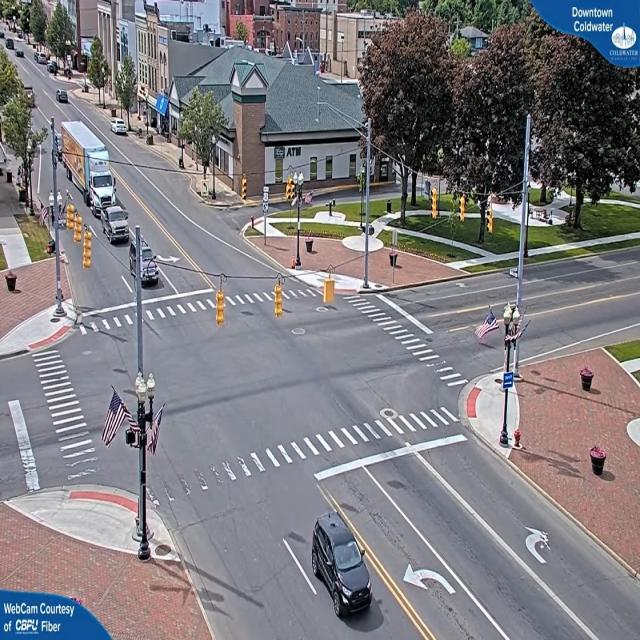car: (309, 515, 372, 624), (133, 234, 161, 288), (105, 204, 129, 246), (56, 90, 69, 105)
truck: (87, 149, 116, 203)
